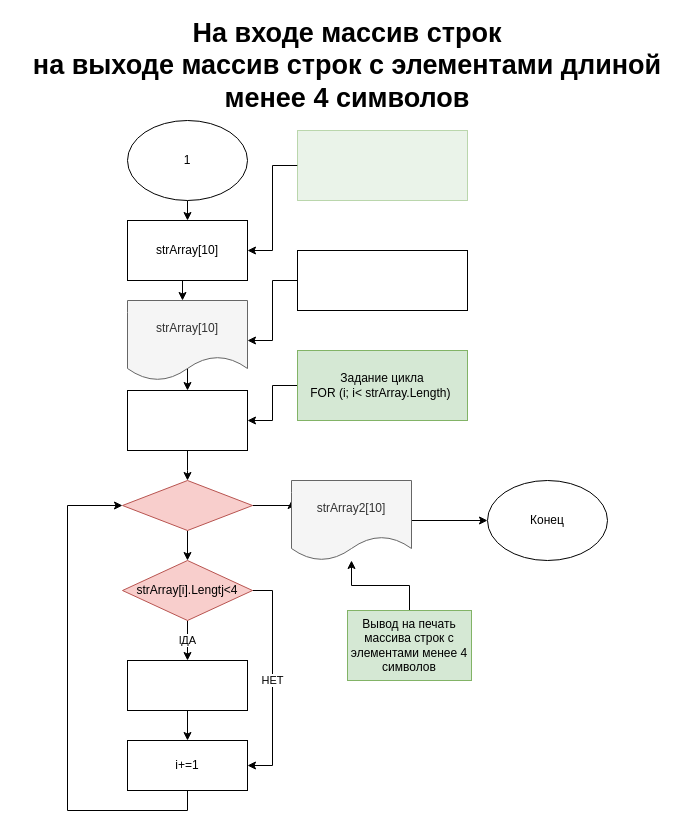
This 694x836 diagram has some shape labels left out. The centre of each missing label's shape, as x and y in pixels:
i<strArray.Length: pixel 187 505
i=0 j=0: pixel 187 420
strArray2[j]=strArray[i] j+=1: pixel 187 685
Вывод на печать исходного массива: pixel 382 280
Задан исходный массив строк: pixel 382 165
